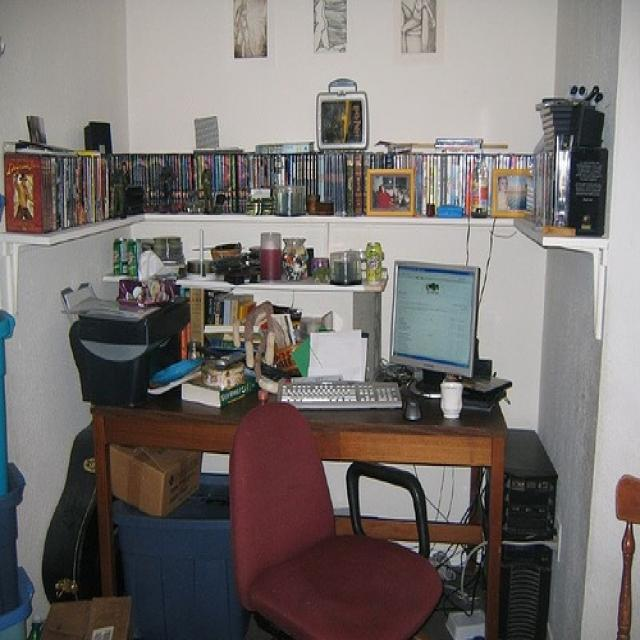chair: (230, 398, 439, 638)
tvmonitor: (384, 256, 480, 394)
